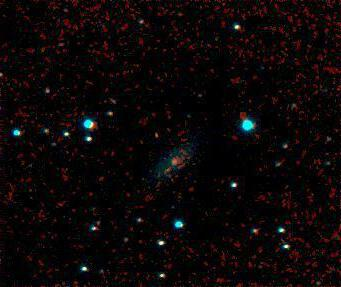star: (150, 157, 180, 187)
